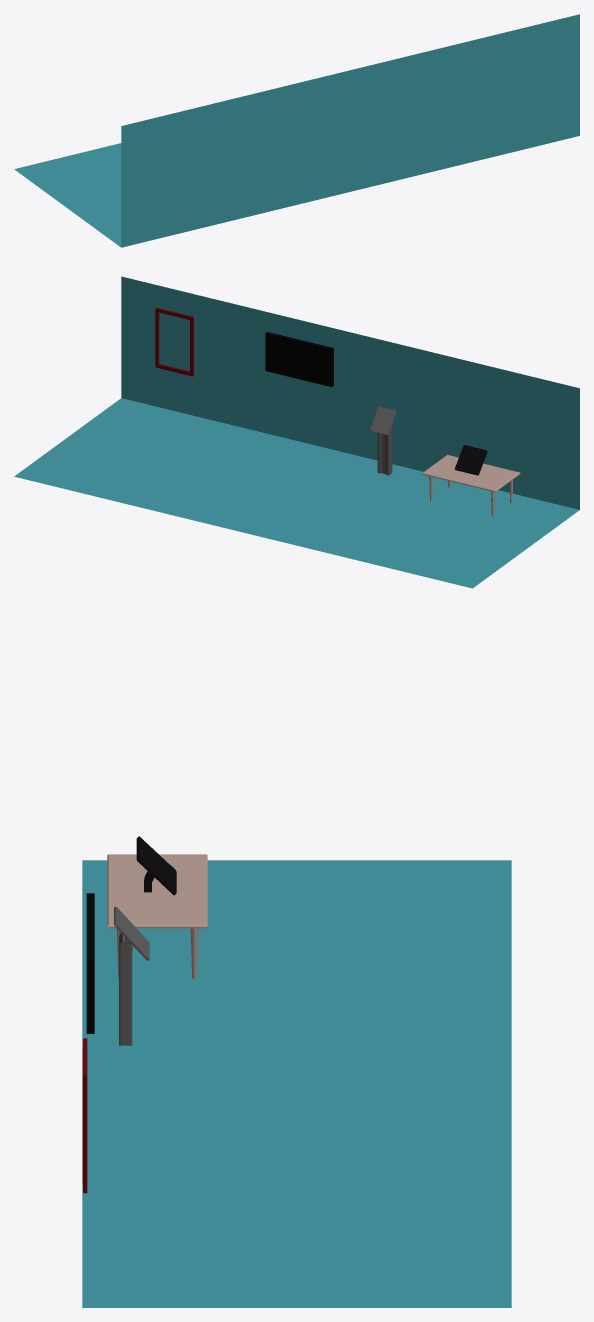
File: confiancelabs_model.gltf
3 views of the same model, one above another, from view 1: azimuth 30°, elevation 25°; view 2: azimuth 150°, elevation 25°; view 3: azimuth 270°, elevation 25° (orthographic). The views are drawn at different scales.
Parts seen in each view (by area): view 1: wall; view 2: wall, tv, table, kiosk, frame, kds; view 3: wall, table, kiosk, kds, tv, frame.
Part boxes in pixels (<box>): wall: <box>14,14,579,247</box>; wall: <box>14,276,579,588</box>; tv: <box>265,332,333,387</box>; table: <box>422,455,520,516</box>; kiosk: <box>370,406,396,475</box>; frame: <box>155,307,193,376</box>; kds: <box>454,445,487,475</box>; wall: <box>82,860,511,1307</box>; table: <box>107,854,207,978</box>; kiosk: <box>114,906,149,1045</box>; kds: <box>136,836,176,895</box>; tv: <box>86,893,94,1033</box>; frame: <box>82,1038,87,1193</box>.
Bounding box in the file's own units: 38.92 × 9.95 × 15.77.
